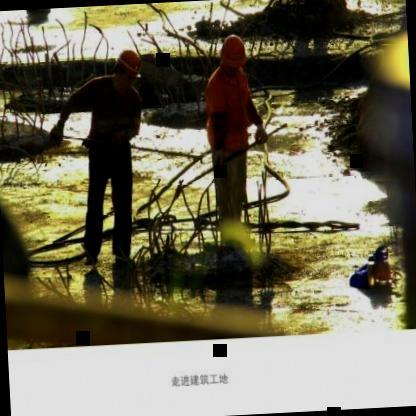helmet: (216, 31, 247, 77), (110, 48, 141, 91)
